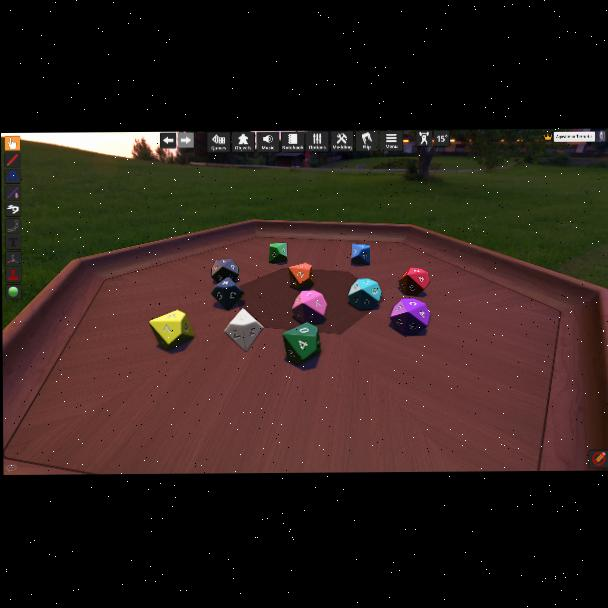d10: (149, 309, 196, 350), (224, 308, 265, 352), (282, 323, 319, 366), (391, 299, 430, 335), (211, 278, 245, 311), (291, 291, 323, 325), (348, 280, 379, 312), (399, 266, 431, 296), (211, 260, 239, 285), (289, 263, 313, 289), (350, 243, 369, 265), (269, 242, 287, 264)
